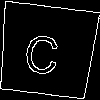C: (22, 25, 63, 76)
